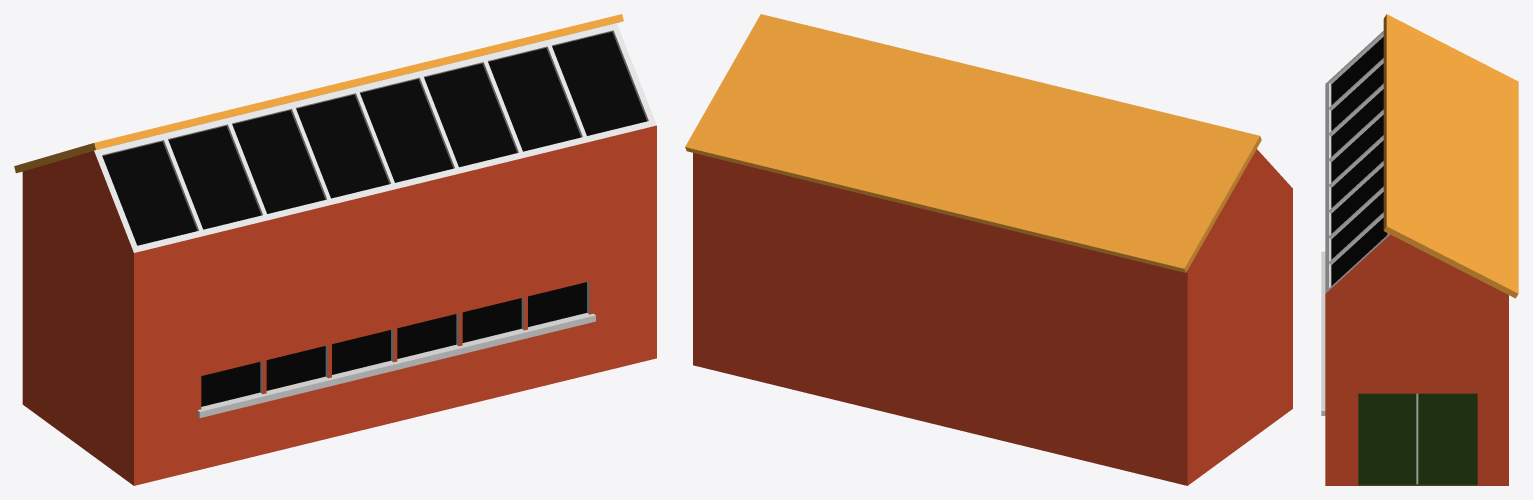
File: P_Batiment_usine_Simple.fbx
The picture shows the model from 3 angles, left to right: view 1: azimuth 30°, elevation 25°; view 2: azimuth 150°, elevation 25°; view 3: azimuth 270°, elevation 25°; orthographic projection. The views are drawn at different scales.
Visible parts, largest first — view 1: P_Batiment_usine_Simple; view 2: P_Batiment_usine_Simple; view 3: P_Batiment_usine_Simple.
Part boxes in pixels (bbox=[...]): P_Batiment_usine_Simple: bbox=[14, 14, 656, 485]; P_Batiment_usine_Simple: bbox=[685, 14, 1292, 485]; P_Batiment_usine_Simple: bbox=[1321, 14, 1518, 485].
Bounding box in the file's own units: 3194 × 1830 × 1254.
